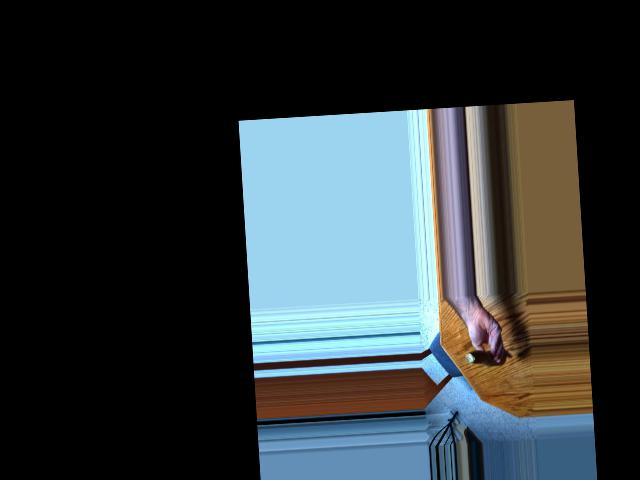sweet_potato: (471, 347, 504, 367)
